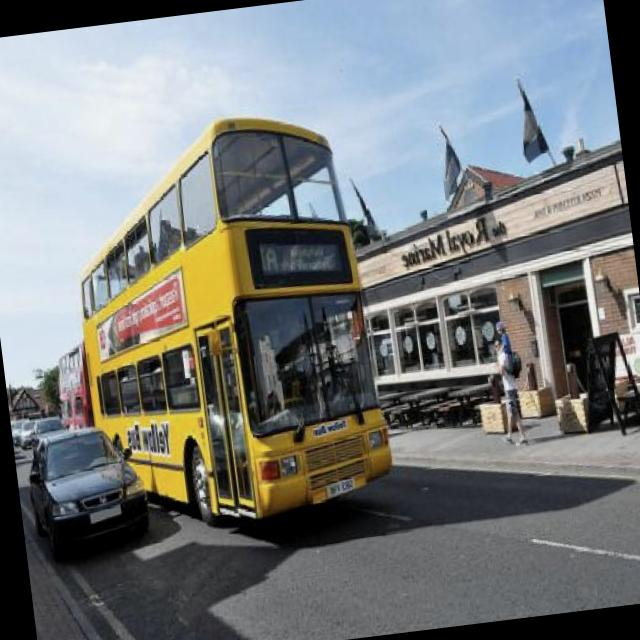Person: (488, 334, 532, 444), (132, 241, 152, 272), (496, 317, 514, 349)
